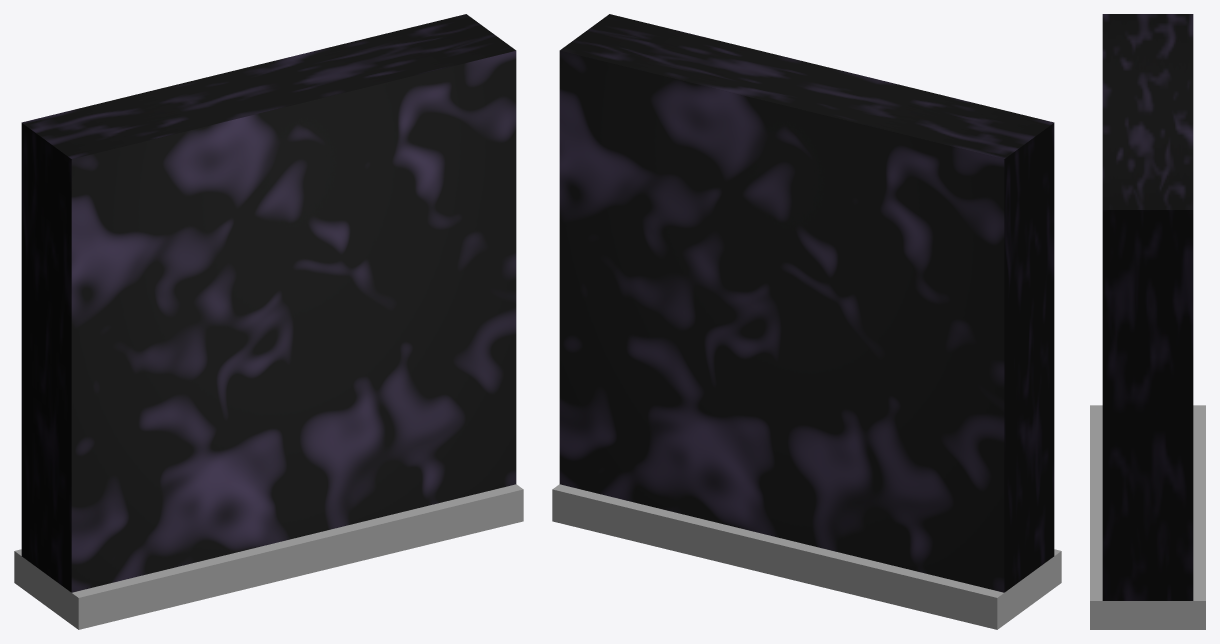
File: Pared.fbx
3 renders of one model, left to right at view 1: azimuth 30°, elevation 25°; view 2: azimuth 150°, elevation 25°; view 3: azimuth 270°, elevation 25°, orthographic. The views are drawn at different scales.
Parts seen in each view (by area): view 1: Pared.001; view 2: Pared.001; view 3: Pared.001.
Part boxes in pixels (bbox=[...]): Pared.001: bbox=[14, 14, 523, 629]; Pared.001: bbox=[552, 14, 1061, 629]; Pared.001: bbox=[1090, 14, 1205, 629].
Bounding box in the file's own units: 200 × 200 × 50.
